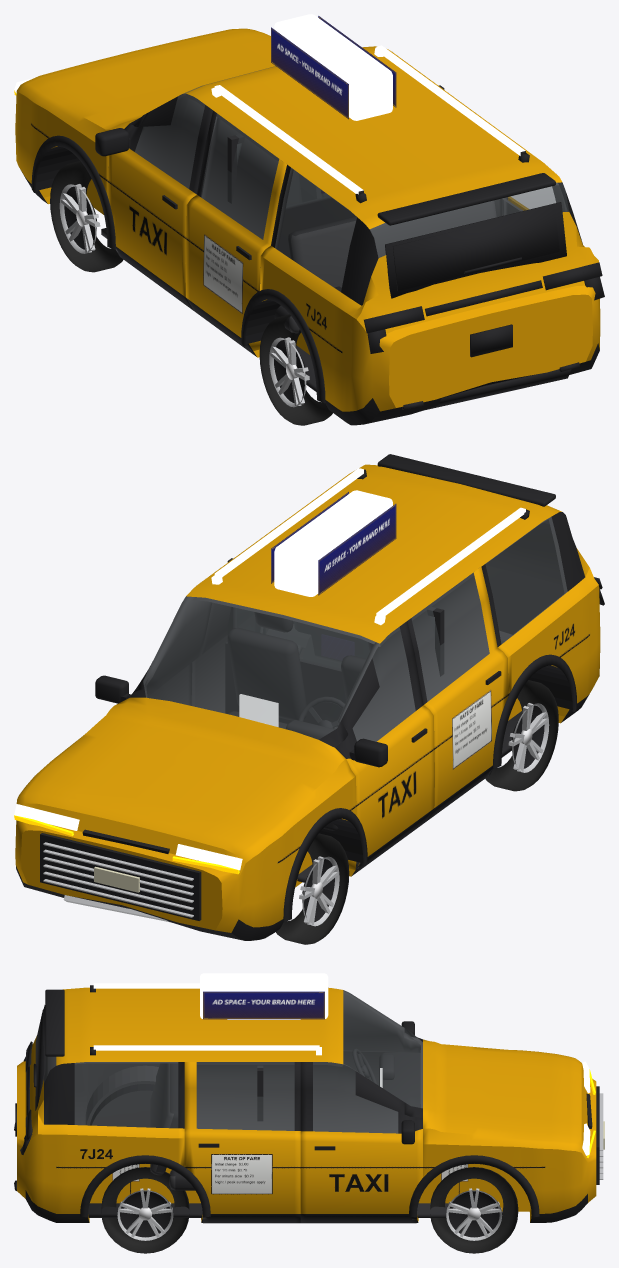
The model's file is taxi.glb.
The picture shows the model from 3 angles, top to bottom: view 1: azimuth 30°, elevation 25°; view 2: azimuth 150°, elevation 25°; view 3: azimuth 270°, elevation 25°; orthographic projection. The views are drawn at different scales.
Visible parts, largest first — view 1: BODY, TRIM, DOOR_L_rear, DOOR_L_front, INTERIOR, ARCHES, WHEEL_FL, WHEEL_RL, AD_VEH_taxi_topper_L; view 2: BODY, TRIM, DOOR_L_rear, INTERIOR, DOOR_L_front, ARCHES, WHEEL_FL, WHEEL_RL, DOOR_R_front, DOOR_R_rear, AD_VEH_taxi_topper_L, AD_VEH_taxi_tv; view 3: BODY, DOOR_R_rear, DOOR_R_front, TRIM, INTERIOR, WHEEL_FR, WHEEL_RR, ARCHES, AD_VEH_taxi_topper_R, DOOR_L_front, STEER.
Boxes of the visible parts, x1=… form: BODY: x1=15, y1=28, x2=600, y2=425; TRIM: x1=14, y1=14, x2=604, y2=411; DOOR_L_rear: x1=185, y1=110, x2=286, y2=356; DOOR_L_front: x1=108, y1=93, x2=217, y2=310; INTERIOR: x1=101, y1=85, x2=496, y2=391; ARCHES: x1=31, y1=135, x2=341, y2=403; WHEEL_FL: x1=50, y1=161, x2=123, y2=272; WHEEL_RL: x1=259, y1=314, x2=332, y2=425; AD_VEH_taxi_topper_L: x1=271, y1=27, x2=348, y2=119; BODY: x1=15, y1=464, x2=600, y2=940; TRIM: x1=14, y1=454, x2=604, y2=922; DOOR_L_rear: x1=407, y1=567, x2=508, y2=821; INTERIOR: x1=150, y1=558, x2=522, y2=882; DOOR_L_front: x1=335, y1=621, x2=434, y2=875; ARCHES: x1=283, y1=654, x2=577, y2=922; WHEEL_FL: x1=276, y1=833, x2=349, y2=944; WHEEL_RL: x1=485, y1=680, x2=558, y2=791; DOOR_R_front: x1=127, y1=596, x2=211, y2=705; DOOR_R_rear: x1=191, y1=603, x2=301, y2=713; AD_VEH_taxi_topper_L: x1=318, y1=504, x2=396, y2=595; AD_VEH_taxi_tv: x1=321, y1=634, x2=354, y2=660; BODY: x1=17, y1=987, x2=596, y2=1223; DOOR_R_rear: x1=184, y1=1062, x2=300, y2=1222; DOOR_R_front: x1=300, y1=1062, x2=422, y2=1222; TRIM: x1=14, y1=973, x2=604, y2=1190; INTERIOR: x1=88, y1=1052, x2=448, y2=1217; WHEEL_FR: x1=430, y1=1167, x2=518, y2=1253; WHEEL_RR: x1=101, y1=1167, x2=189, y2=1253; ARCHES: x1=80, y1=1084, x2=539, y2=1217; AD_VEH_taxi_topper_R: x1=203, y1=991, x2=324, y2=1019; DOOR_L_front: x1=343, y1=990, x2=422, y2=1085; STEER: x1=352, y1=1048, x2=377, y2=1084.
Size of the model in its own units: 2.13 by 2.07 by 4.84.
Materials: 16 (4 with a texture image).
